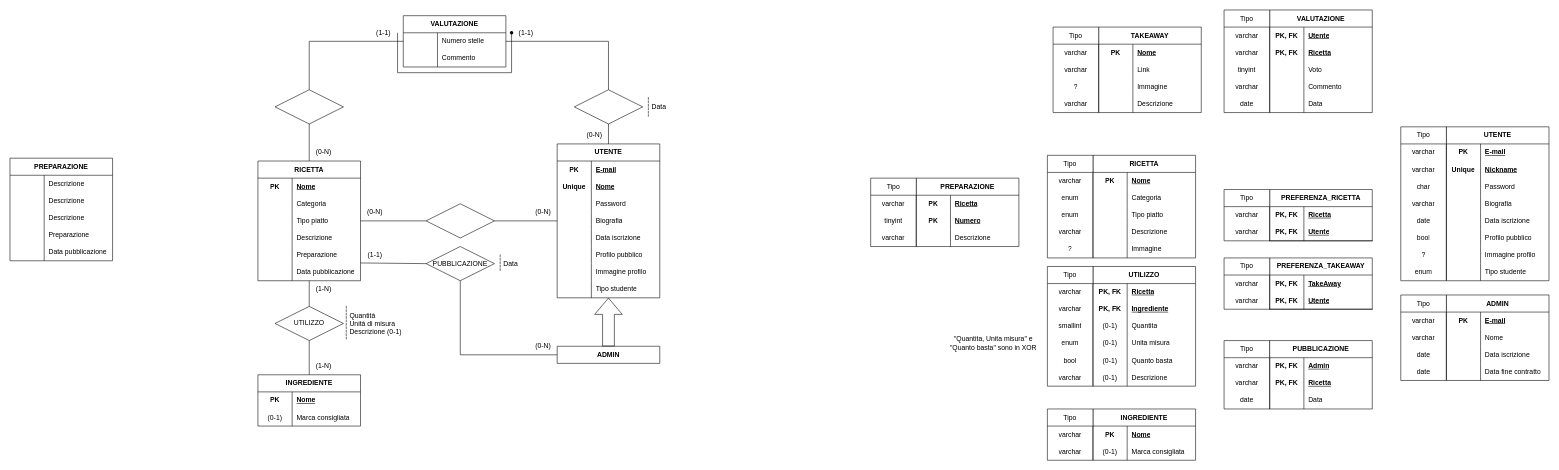
Some shapes in this 1559 by 470 pixel diagram are drawn without their labels. Each missing label, with the centre of its shape:
"ASSEGNAZIONE" belongs at point (608, 106).
"PREFERENZA" belongs at point (460, 220).
"RECENSIONE" belongs at point (308, 106).
